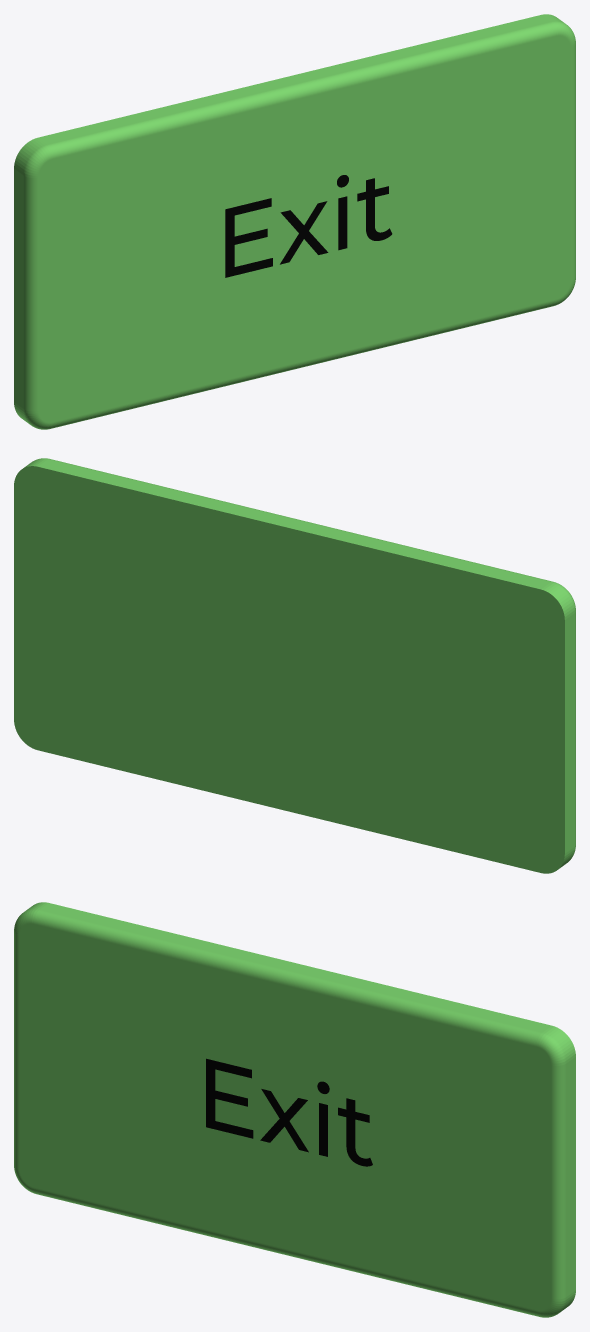
File: BEx2.glb
3 renders of one model, top to bottom at view 1: azimuth 30°, elevation 25°; view 2: azimuth 150°, elevation 25°; view 3: azimuth 330°, elevation 25°, orthographic.
Parts seen in each view (by area): view 1: ButtonNext.006; view 2: ButtonNext.006; view 3: ButtonNext.006.
Part boxes in pixels (<box>): ButtonNext.006: <box>14,14,575,429</box>; ButtonNext.006: <box>14,458,575,873</box>; ButtonNext.006: <box>14,902,575,1317</box>.
Size of the model in its own units: 0.5208 by 0.2562 by 0.025.
2 materials, 1 textured.
